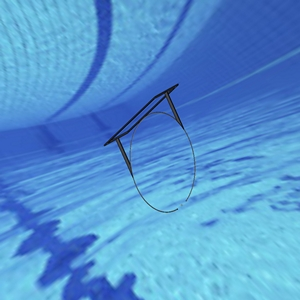circle: (103, 82, 198, 213)
